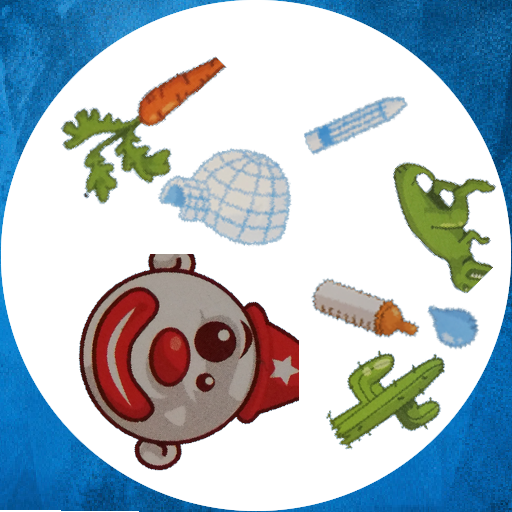bottle_icon: (308, 255, 422, 369)
cactus_icon: (315, 327, 455, 467)
carrot_icon: (39, 17, 233, 211)
clown_icon: (73, 254, 299, 480)
dino_icon: (367, 156, 506, 295)
igloo_icon: (156, 131, 293, 268)
pen_icon: (303, 70, 410, 177)
raindrop_icon: (424, 296, 480, 352)
